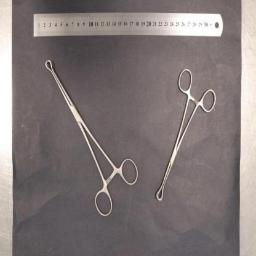Babcock Tissue Forceps: (156, 69, 216, 201)
